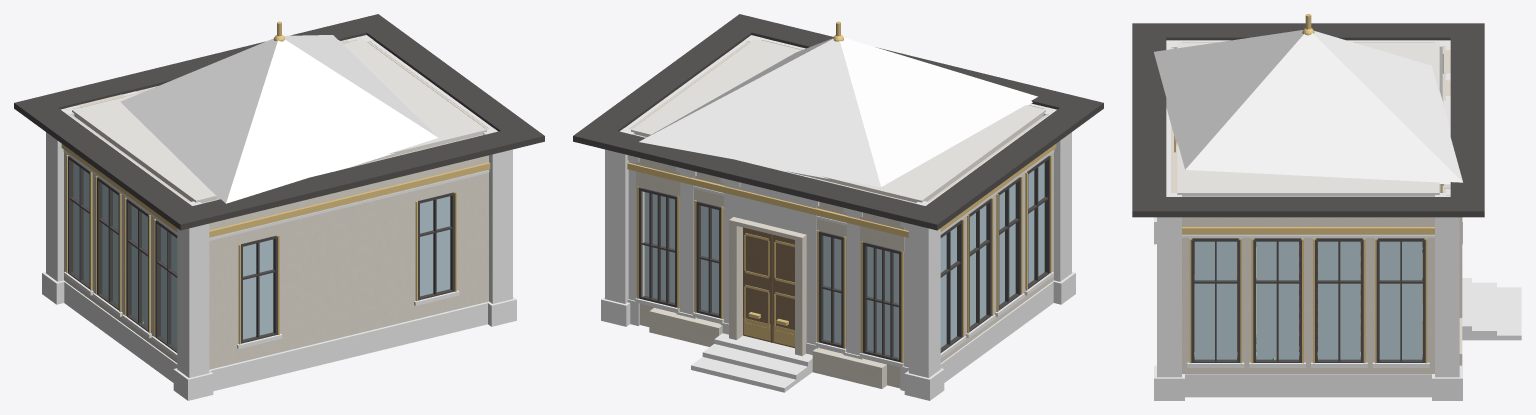
File: gedung-aula-v1e.glb
3 renders of one model, left to right at view 1: azimuth 30°, elevation 25°; view 2: azimuth 150°, elevation 25°; view 3: azimuth 270°, elevation 25°, orthographic. The views are drawn at different scales.
Parts seen in each view (by area): view 1: Merged_Plester, Atap, Merged_LogamGelap, Merged_PlesterGelap, Merged_Batu, Merged_Kaca, Merged_Putih, Merged_Emas; view 2: Merged_LogamGelap, Atap, Merged_PlesterGelap, Merged_Plester, Merged_Kaca, Merged_Batu, Merged_Putih, Merged_Emas, PintuUtama_DaunR, PintuUtama_DaunL; view 3: Atap, Merged_LogamGelap, Merged_Kaca, Merged_Batu, Merged_Plester, Merged_PlesterGelap, Merged_Putih, Merged_Emas.
Boxes of the visible parts, x1,y1,x2,y2 form: Merged_Plester: (64, 39, 488, 369); Atap: (120, 35, 438, 203); Merged_LogamGelap: (14, 14, 544, 352); Merged_PlesterGelap: (46, 35, 512, 377); Merged_Batu: (42, 272, 516, 400); Merged_Kaca: (73, 162, 450, 347); Merged_Putih: (72, 39, 486, 202); Merged_Emas: (61, 21, 490, 344); Merged_LogamGelap: (573, 14, 1103, 362); Atap: (639, 37, 1037, 186); Merged_PlesterGelap: (605, 35, 1071, 377); Merged_Plester: (629, 40, 1053, 388); Merged_Kaca: (644, 162, 1044, 357); Merged_Batu: (601, 272, 1075, 400); Merged_Putih: (631, 39, 1045, 202); Merged_Emas: (627, 21, 1056, 363); PintuUtama_DaunR: (743, 227, 770, 342); PintuUtama_DaunL: (773, 235, 794, 348); Atap: (1154, 30, 1462, 184); Merged_LogamGelap: (1132, 23, 1484, 362); Merged_Kaca: (1194, 241, 1422, 359); Merged_Batu: (1154, 217, 1521, 400); Merged_Plester: (1171, 47, 1462, 374); Merged_PlesterGelap: (1157, 40, 1459, 377); Merged_Putih: (1177, 42, 1439, 356); Merged_Emas: (1174, 14, 1442, 363).
Bounding box in the file's own units: 14.4 × 10.86 × 12.6.
17 materials, 4 textured.
